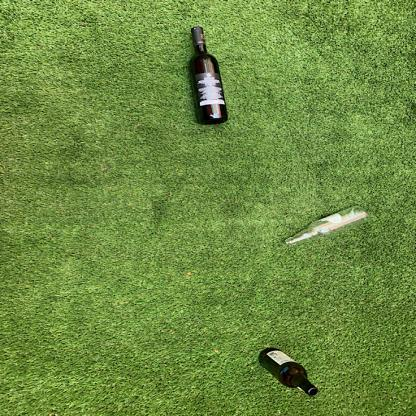trash: (182, 25, 232, 125), (282, 205, 371, 248), (255, 347, 319, 398)
